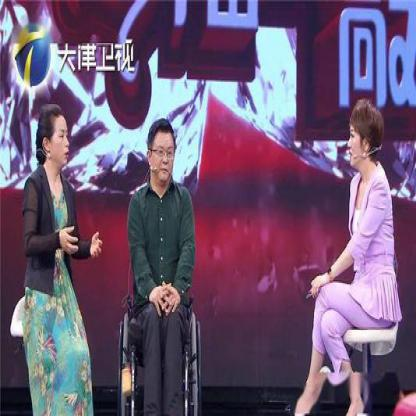wheelchair: (116, 115, 204, 415)
